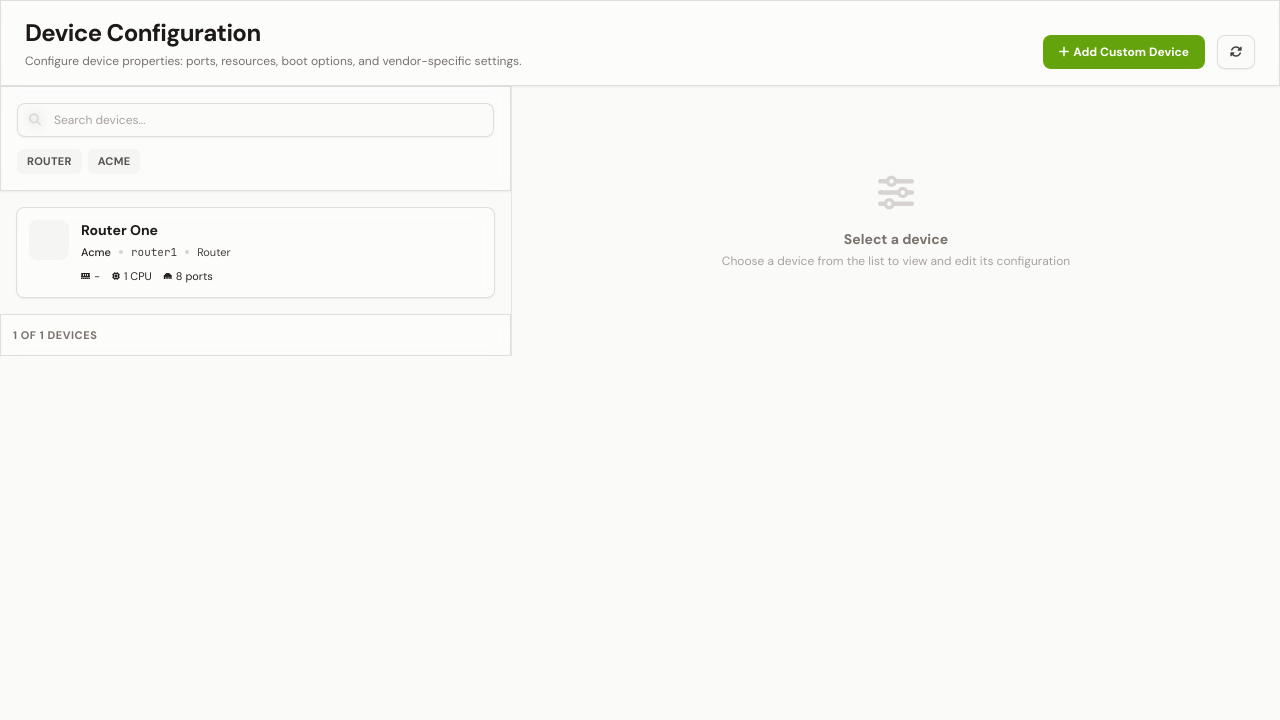
it: DeviceConfigManager › disables Add Device button when ID is empty
The width and height of the screenshot is (1280, 720).
Click the button "Add Custom Device" at (1124, 52), box [1043,35,1205,69]
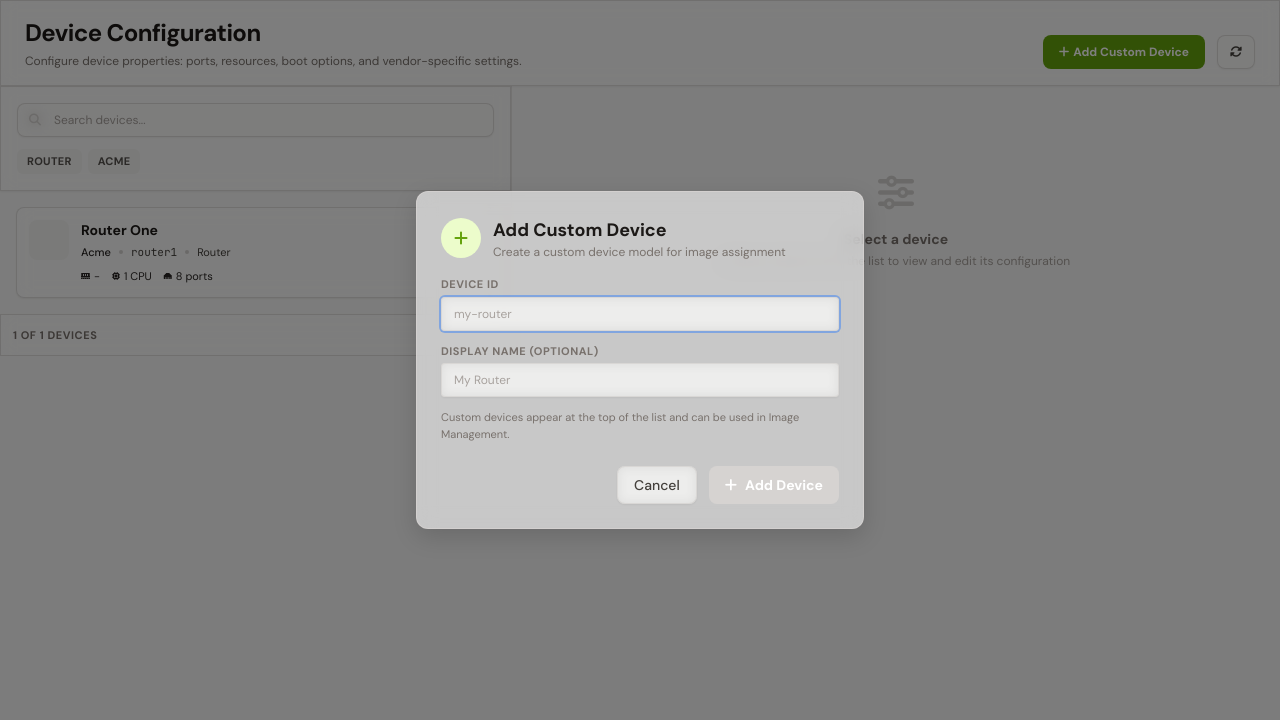
Expected: the button "Add Device" is disabled, [709,466,839,504]
